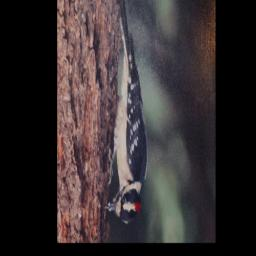Woodpecker: (104, 0, 150, 228)
